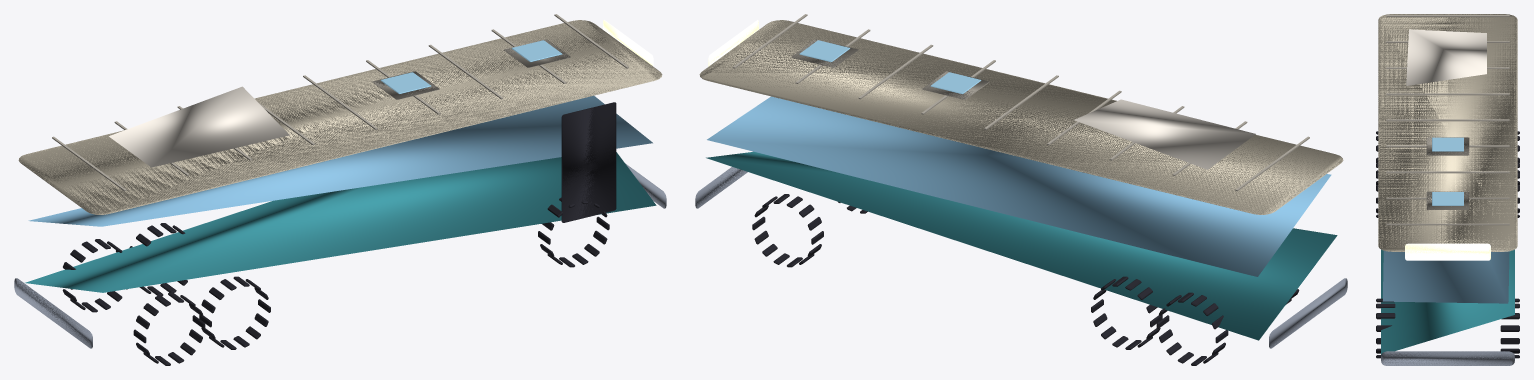
The model's file is bus.glb.
The picture shows the model from 3 angles, left to right: view 1: azimuth 30°, elevation 25°; view 2: azimuth 150°, elevation 25°; view 3: azimuth 270°, elevation 25°; orthographic projection. The views are drawn at different scales.
Visible parts, largest first — view 1: bus; view 2: bus; view 3: bus.
Boxes of the visible parts, <box> form: bus: <box>14,14,666,365</box>; bus: <box>695,14,1347,365</box>; bus: <box>1376,14,1519,365</box>.
Bounding box in the file's own units: 10.52 × 3.48 × 2.68.
Materials: 1 (1 with a texture image).
